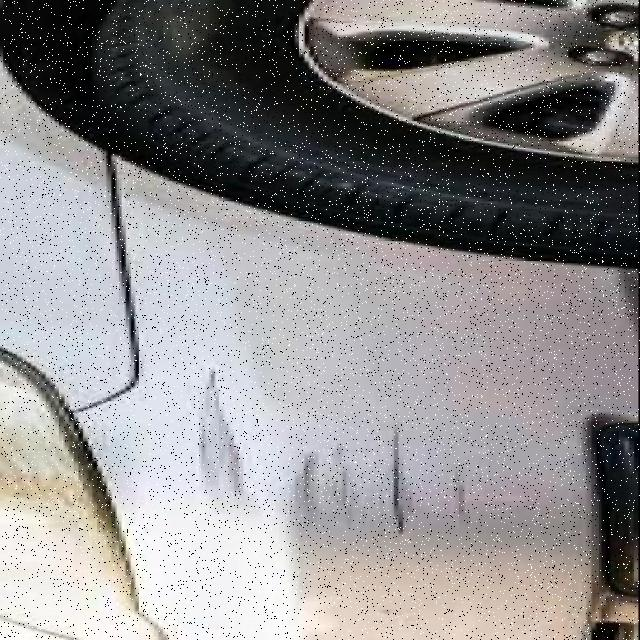damage: (193, 369, 480, 536)
